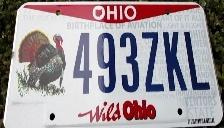3: (118, 30, 141, 94)
4: (71, 31, 95, 96)
9: (96, 32, 118, 95)
K: (162, 31, 187, 91)
L: (179, 29, 213, 91)
Z: (140, 31, 167, 93)
